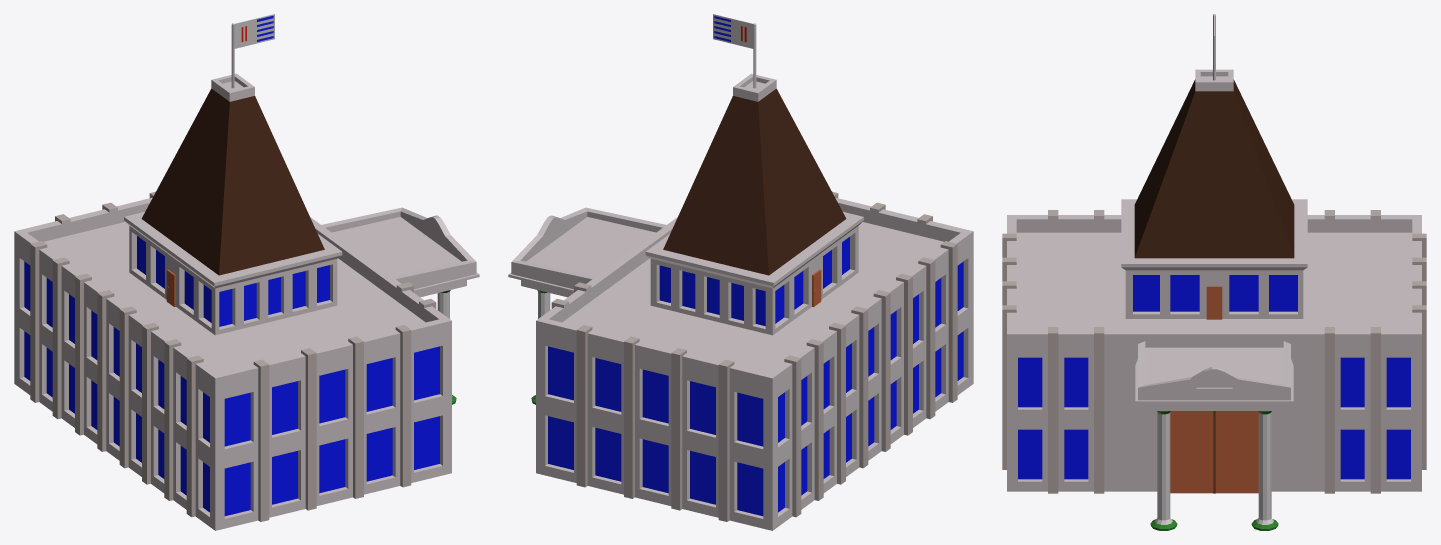
The model's file is 2 Meria.fbx.
The picture shows the model from 3 angles, left to right: view 1: azimuth 30°, elevation 25°; view 2: azimuth 150°, elevation 25°; view 3: azimuth 270°, elevation 25°; orthographic projection. The views are drawn at different scales.
Visible parts, largest first — view 1: Cube.014; view 2: Cube.014; view 3: Cube.014.
Boxes of the visible parts, box(x1,y1,x2,y2) form: Cube.014: box(14, 14, 479, 530); Cube.014: box(508, 14, 973, 530); Cube.014: box(1002, 14, 1426, 530).
Size of the model in its own units: 799 by 936 by 861.
